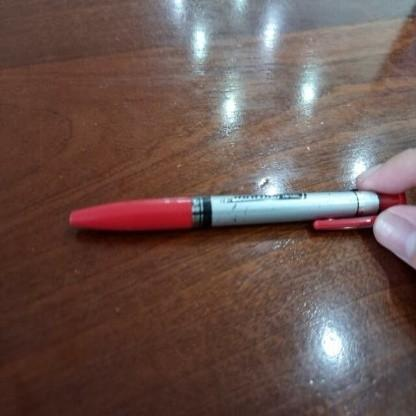not trash: (56, 187, 410, 241)
